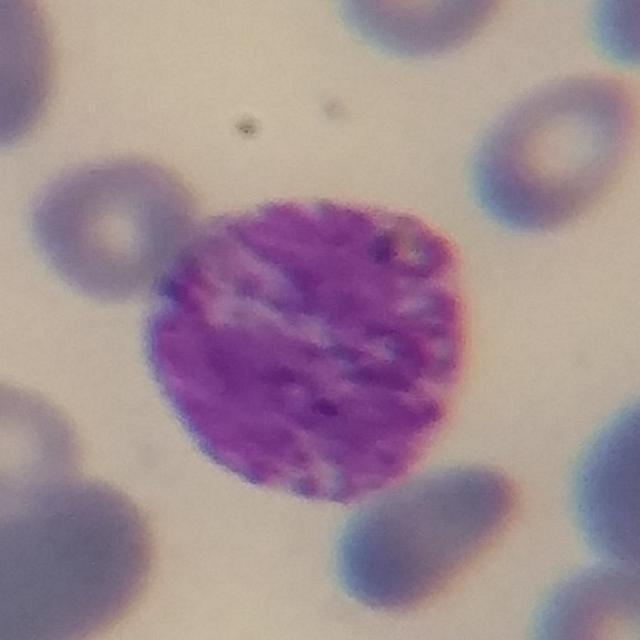baso: (141, 185, 467, 506)
